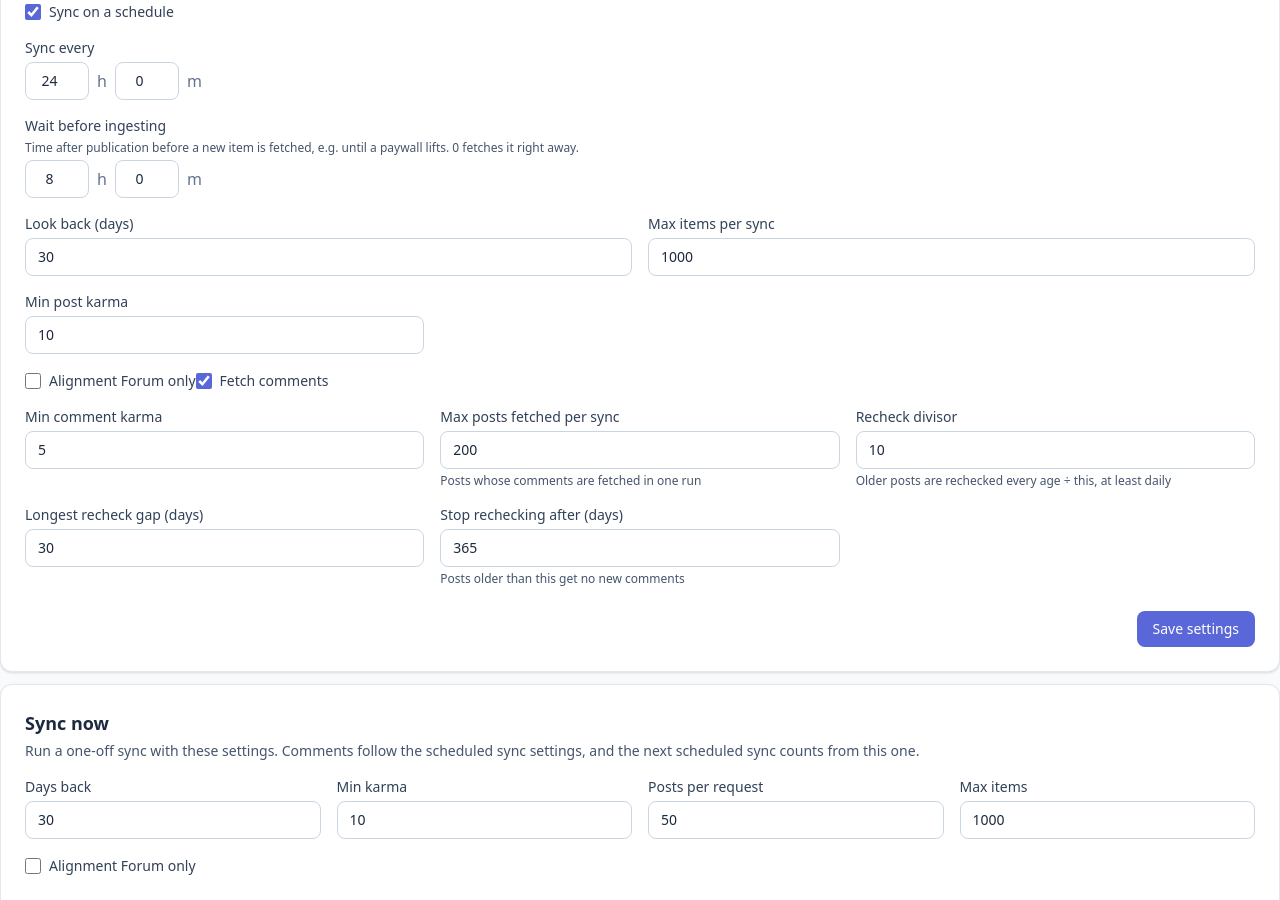
Test: ForumsPanel › saves edited sync settings
The image size is (1280, 900).
(page scrolled)
Replace the text in the number field labelled "Min comment karma" with "12" at x=225, y=450, box x1=25 y1=431 x2=424 y2=469
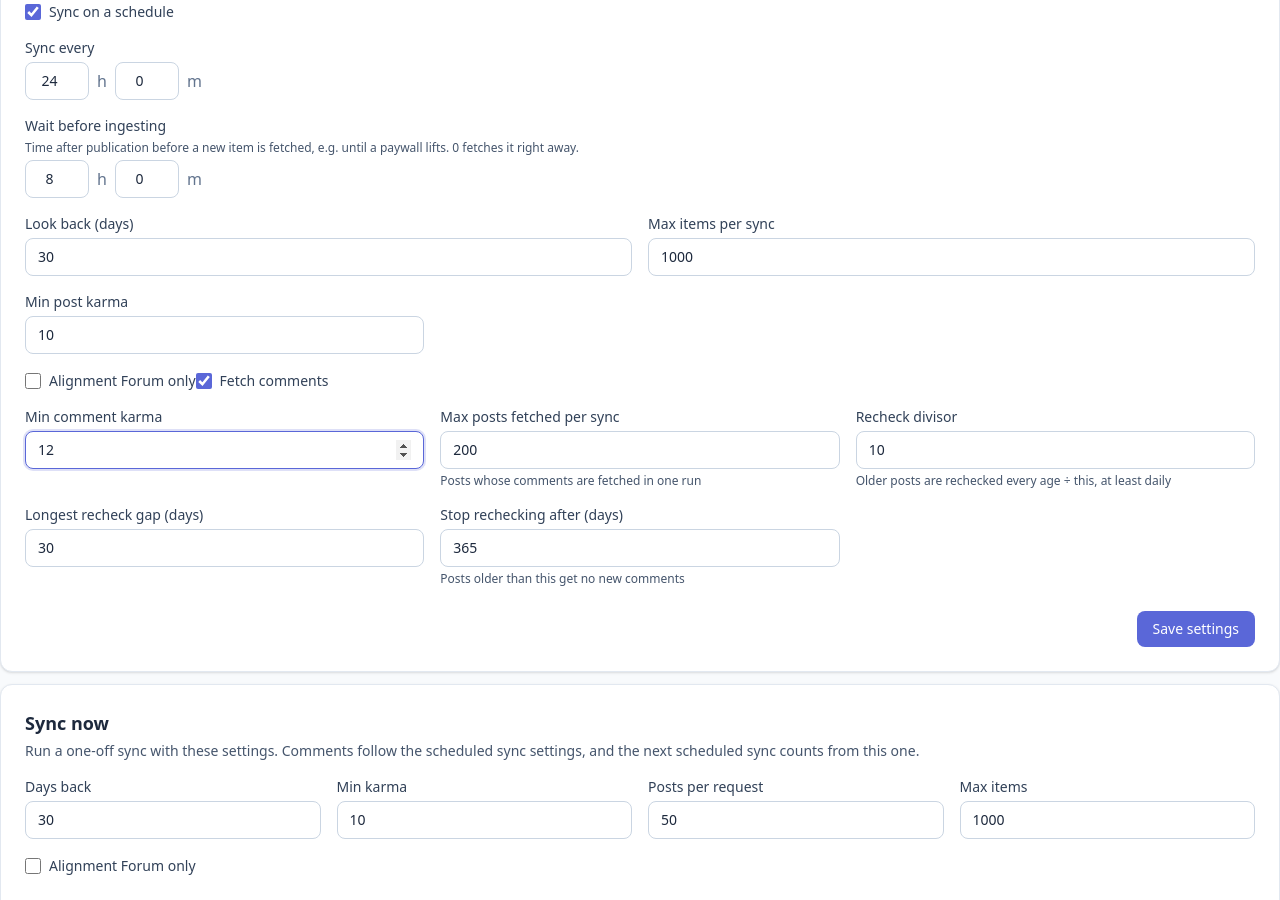
Click the button "Save settings".
click(1196, 629)  # box x1=1136 y1=611 x2=1255 y2=647
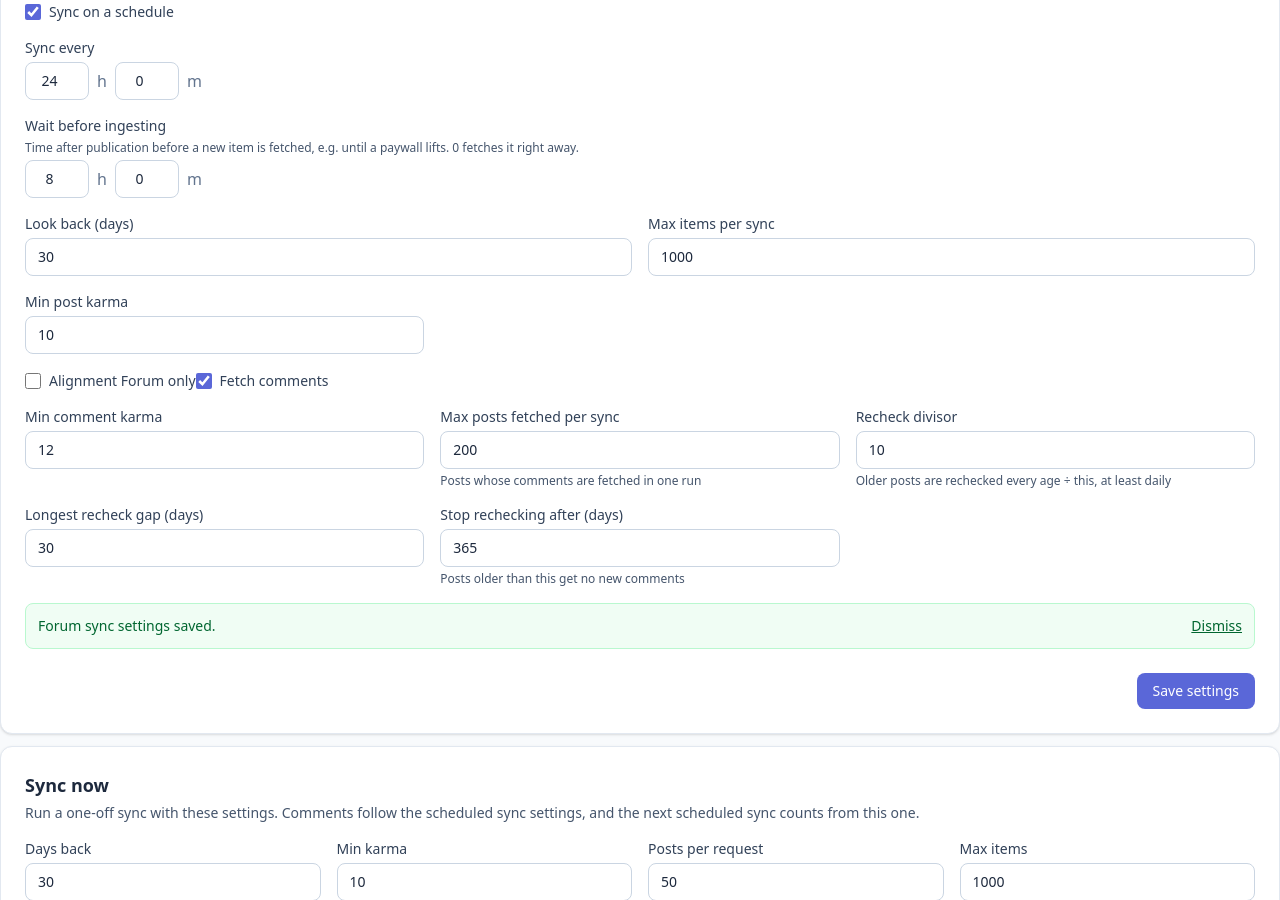
Expected: the text "Forum sync settings saved." is shown, x1=38 y1=616 x2=216 y2=636
